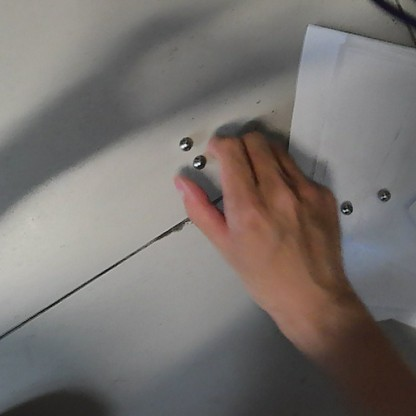ironball: (373, 181, 392, 205), (336, 196, 355, 219), (188, 154, 210, 171), (175, 132, 193, 150)
